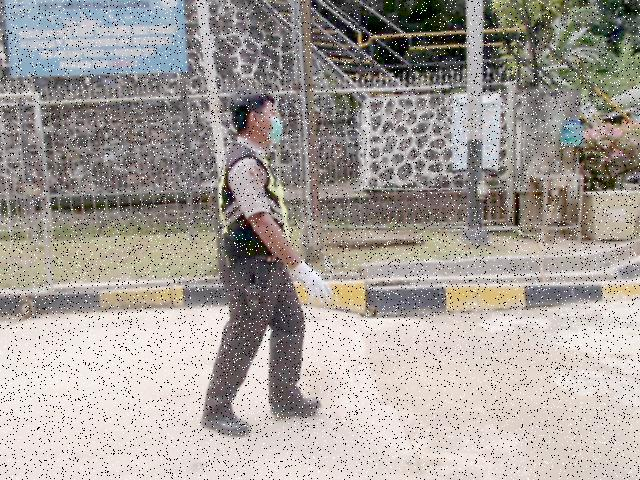gloves: (290, 256, 335, 308)
mask: (269, 118, 283, 146)
safety-shoes: (196, 409, 254, 440), (267, 395, 327, 420)
